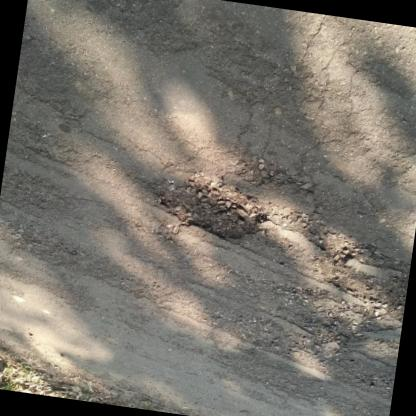pothole: (146, 172, 272, 248)
